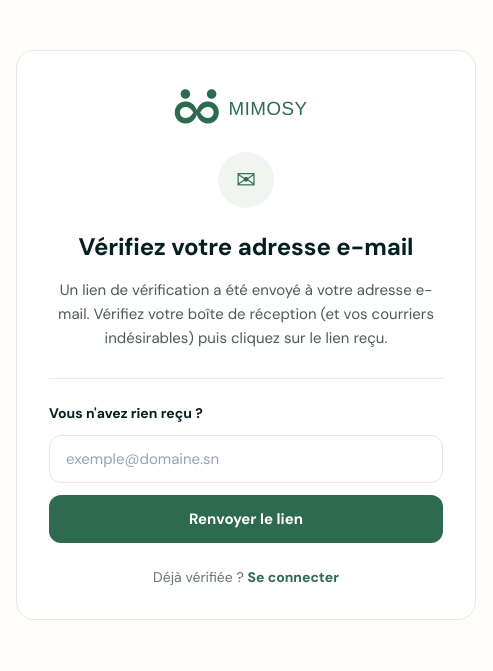
Scenario: VerifierEmail.vue — après inscription et renvoi › message clair en cas de limitation (429)
Type "amadou@example.com" into the field with id "email-renvoi".
click(246, 459); type("amadou@example.com")  # box x1=49 y1=435 x2=443 y2=483
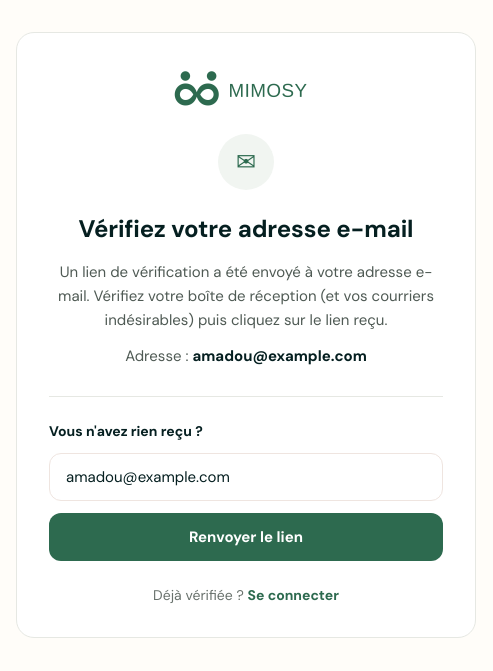
Submit the form, box x1=49 y1=396 x2=443 y2=561
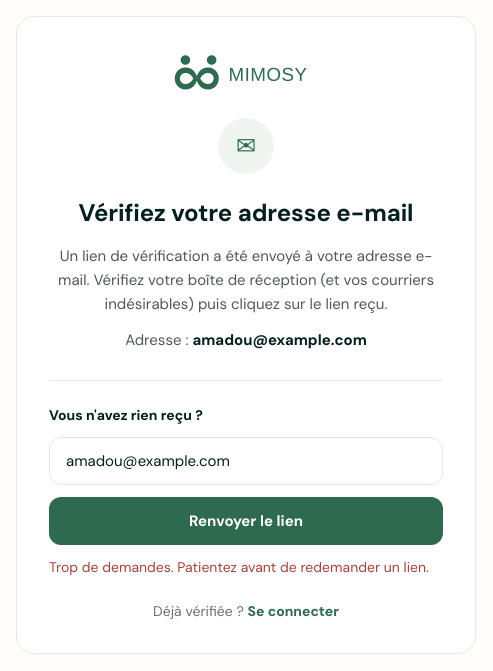
Now the text "Trop de demandes" is shown, box x1=49 y1=558 x2=429 y2=576
